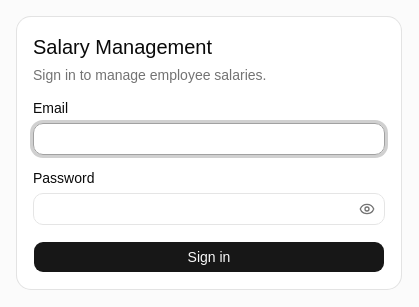
Test: signing in › shows the password while the eye is switched on, and hides it again
Type "secret" into the password field labelled "Password" at {"x": 209, "y": 209}, box [33,193,385,225]
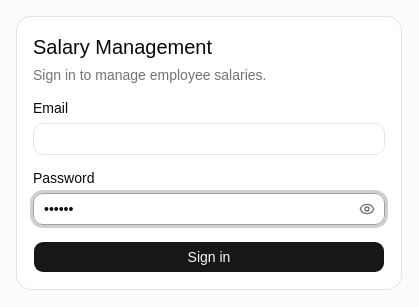
Click the button named "Show password" at {"x": 367, "y": 209}, box [349,193,385,225]
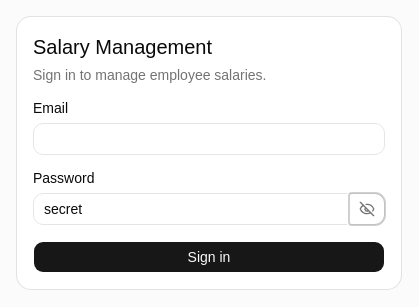
Expected: the field labelled "Password" shows its text, [33,193,385,225]
Click the button named "Hide password" at {"x": 367, "y": 209}, box [349,193,385,225]
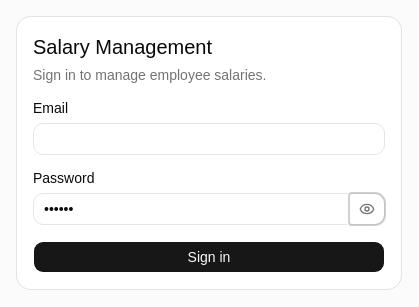
Expected: the password field labelled "Password" hides its text, [33,193,385,225]
